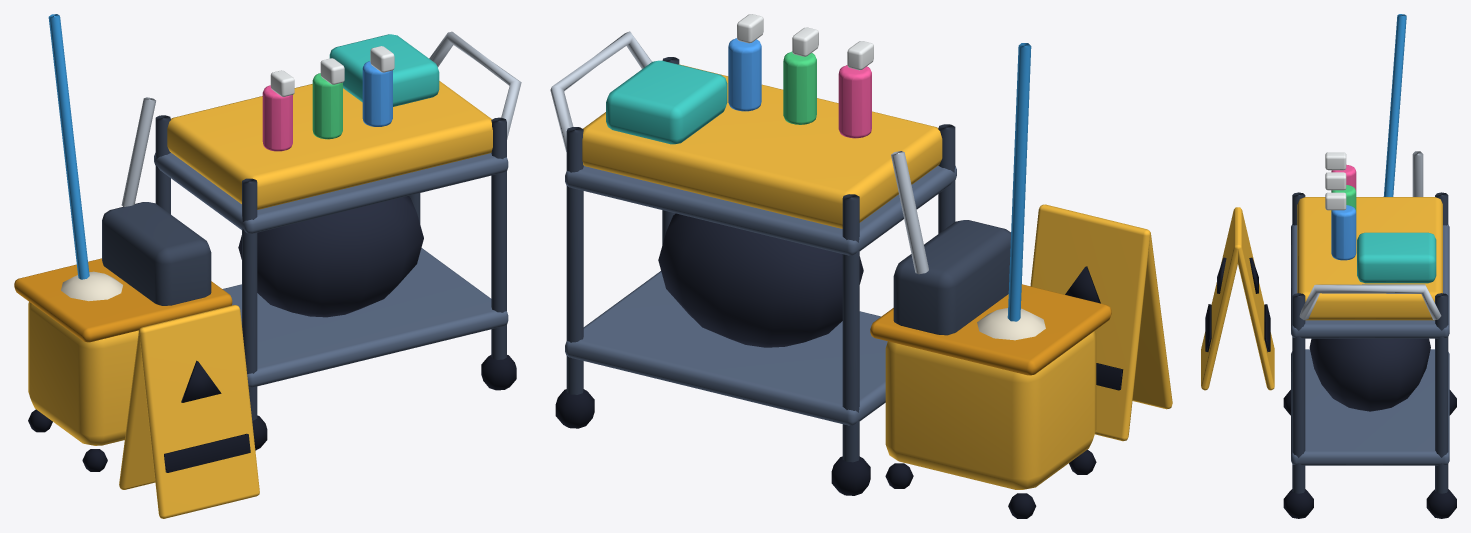
The model's file is aqua_janitor_cart.glb.
3 renders of one model, left to right at view 1: azimuth 30°, elevation 25°; view 2: azimuth 150°, elevation 25°; view 3: azimuth 270°, elevation 25°, orthographic. The views are drawn at different scales.
Visible parts, largest first — view 1: JanitorCart; view 2: JanitorCart; view 3: JanitorCart.
Boxes of the visible parts, left/top/right/bottom form: JanitorCart: left=14, top=14, right=521, bottom=518; JanitorCart: left=550, top=14, right=1172, bottom=518; JanitorCart: left=1201, top=14, right=1456, bottom=518.
Size of the model in its own units: 1.59 by 1.45 by 0.9661.
